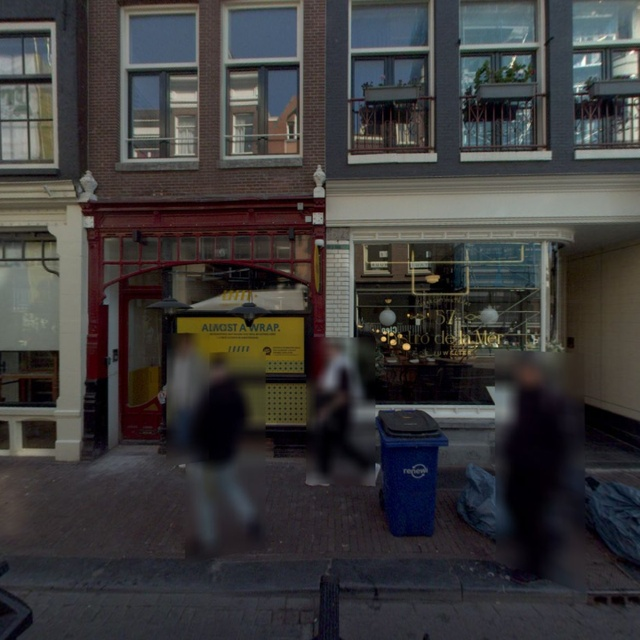Garbage Bags: (590, 478, 640, 567), (462, 466, 502, 537)
